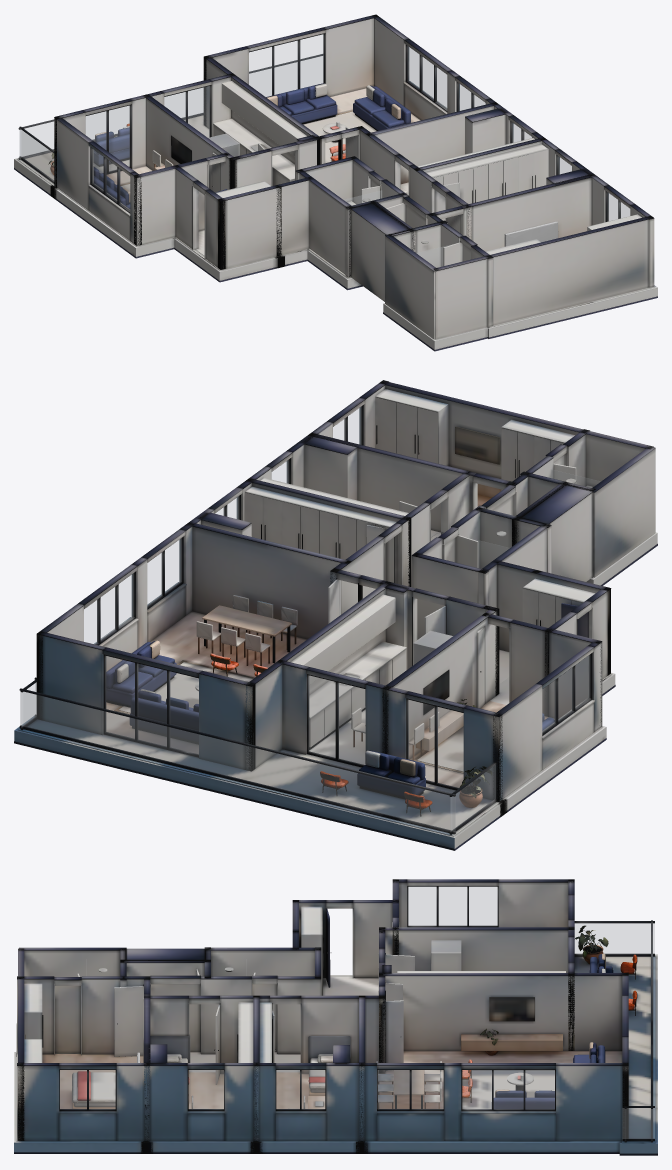
3 renders of one model, top to bottom at view 1: azimuth 30°, elevation 25°; view 2: azimuth 150°, elevation 25°; view 3: azimuth 270°, elevation 25°, orthographic. The views are drawn at different scales.
Visible parts, largest first — view 1: plan, railg0_m, glass3_m, glass0_m, glass1_m, glass4_m, glass2_m, railg6_m; view 2: plan, railg0_m, glass3_m, glass1_m, glass0_m, glass2_m, glass4_m, railg6_m, glass5_m, glass8_m; view 3: plan, glass4_m, glass2_m, glass5_m, glass8_m, railg6_m, glass6_m, glass7_m, railg8_m.
Boxes of the visible parts, x1,y1,x2,y2 form: plan: [14, 14, 657, 351]; railg0_m: [19, 56, 322, 157]; glass3_m: [249, 34, 323, 96]; glass0_m: [86, 106, 129, 172]; glass1_m: [164, 86, 209, 137]; glass4_m: [407, 46, 446, 109]; glass2_m: [92, 149, 129, 210]; railg6_m: [20, 130, 53, 180]; plan: [14, 380, 657, 850]; railg0_m: [20, 691, 455, 831]; glass3_m: [105, 656, 198, 754]; glass1_m: [308, 676, 365, 765]; glass0_m: [408, 700, 463, 787]; glass2_m: [542, 655, 589, 732]; glass4_m: [84, 573, 133, 644]; railg6_m: [450, 765, 495, 831]; glass5_m: [147, 538, 181, 606]; glass8_m: [333, 407, 361, 444]; plan: [14, 879, 657, 1155]; glass4_m: [462, 1070, 554, 1109]; glass2_m: [408, 887, 497, 925]; glass5_m: [378, 1070, 443, 1109]; glass8_m: [60, 1070, 115, 1109]; railg6_m: [575, 923, 654, 953]; glass6_m: [276, 1070, 324, 1109]; glass7_m: [189, 1070, 223, 1109]; railg8_m: [622, 1108, 654, 1138].
Size of the model in its own units: 12.22 by 2.62 by 17.52.
2 materials, 1 textured.
